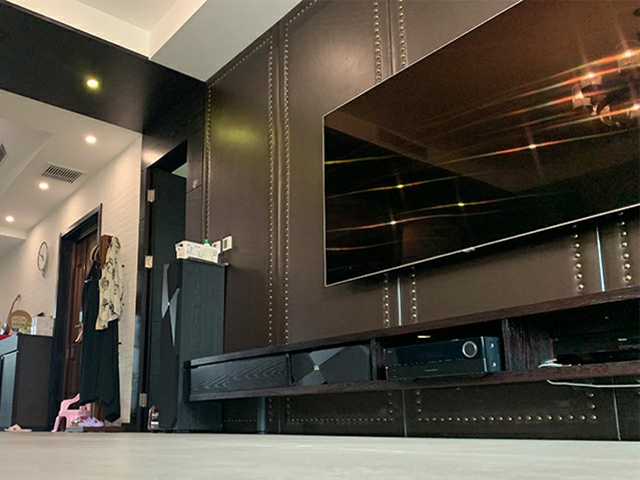cabinet: (184, 284, 639, 436), (1, 332, 54, 432)
slippers: (3, 423, 32, 433)
stool: (50, 392, 93, 433)
